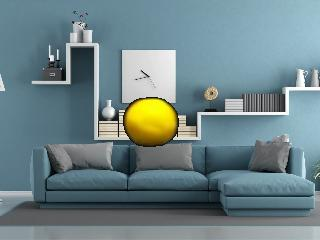lemon: (124, 99, 178, 147)
